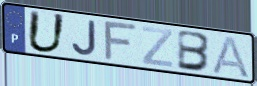A: (210, 35, 251, 80)
B: (176, 28, 213, 73)
F: (103, 20, 139, 62)
J: (69, 19, 98, 58)
U: (26, 9, 69, 55)
Z: (140, 25, 174, 69)
